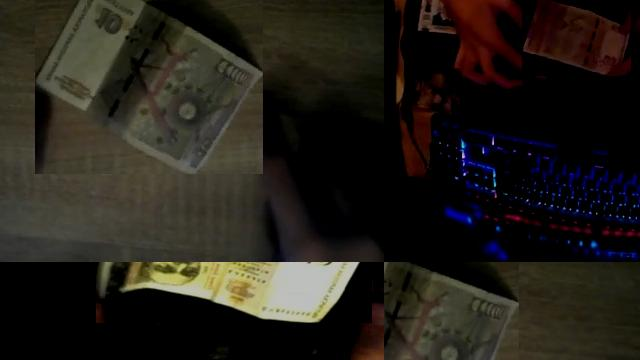10leva: (35, 0, 263, 174), (96, 262, 361, 323), (384, 262, 519, 360)
50leva: (522, 0, 631, 76)
